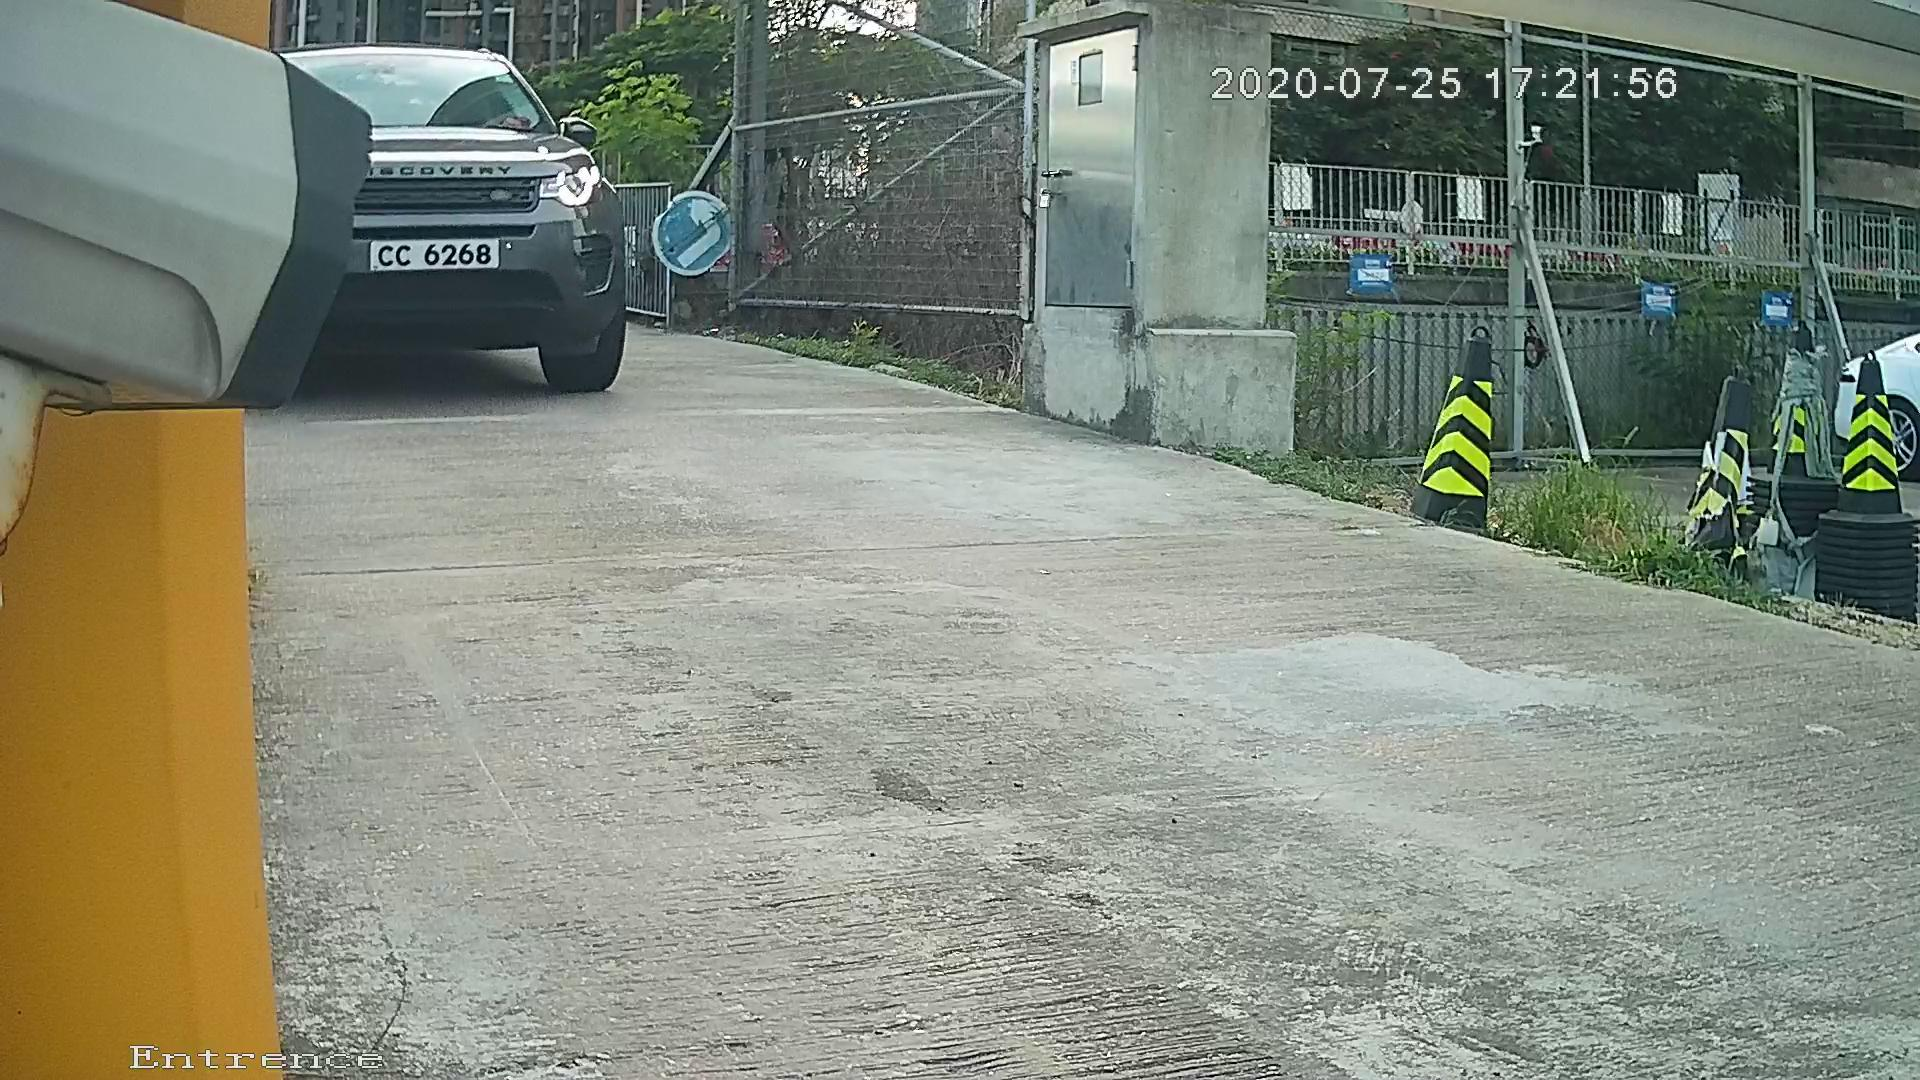Car: (112, 15, 772, 454)
License Plate: (358, 222, 519, 291)
